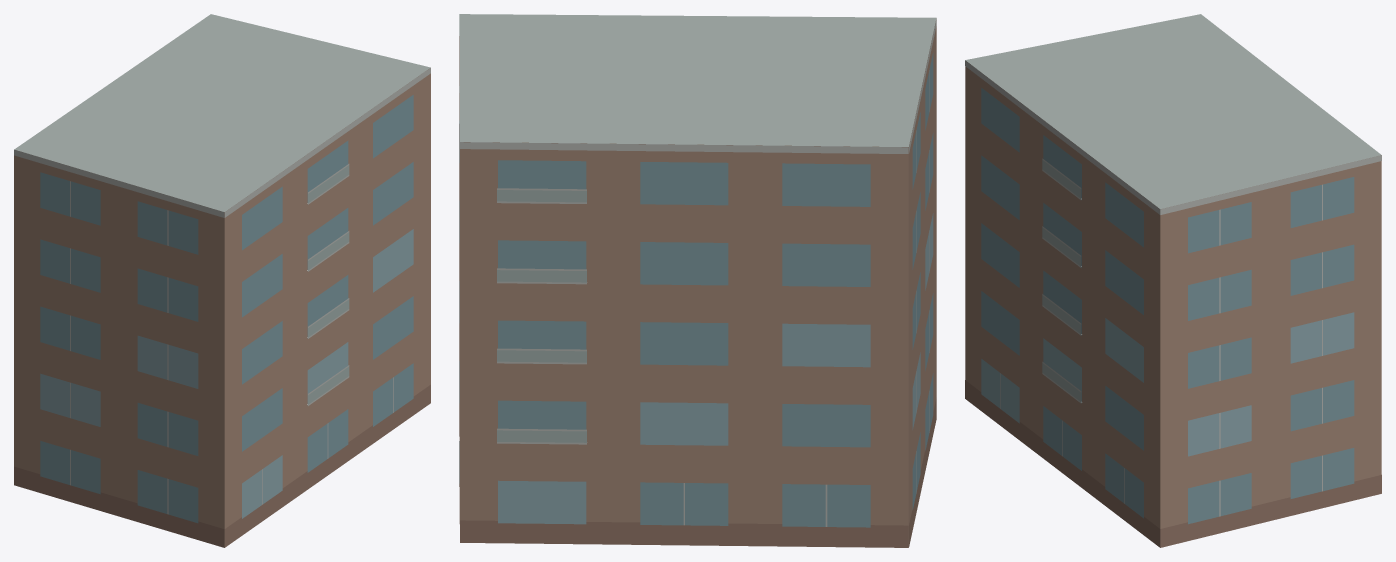
The model's file is survey-upis-32736231.glb.
3 views of the same model, side by side, from view 1: azimuth 30°, elevation 25°; view 2: azimuth 150°, elevation 25°; view 3: azimuth 270°, elevation 25° (orthographic). The views are drawn at different scales.
Parts seen in each view (by area): view 1: survey-upis-32736231.tmp; view 2: survey-upis-32736231.tmp; view 3: survey-upis-32736231.tmp.
Boxes of the visible parts, x1,y1,x2,y2 form: survey-upis-32736231.tmp: (14, 14, 430, 547); survey-upis-32736231.tmp: (459, 14, 936, 547); survey-upis-32736231.tmp: (965, 14, 1381, 547).
Bounding box in the file's own units: 17.19 × 13.9 × 15.51.
